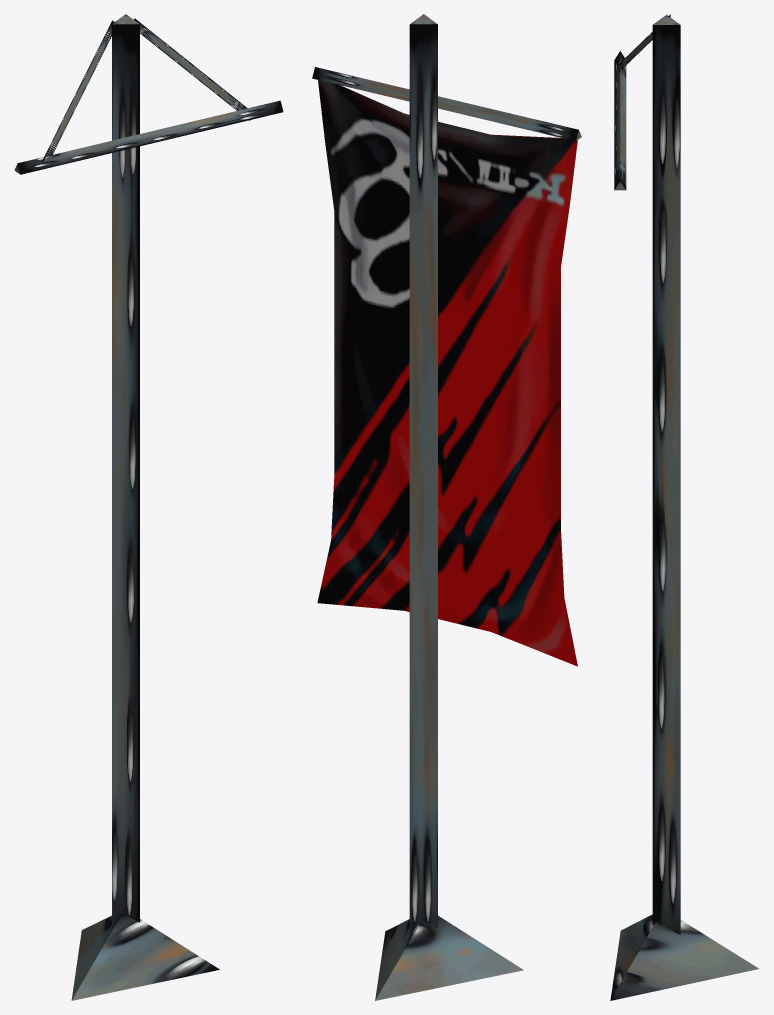
Rendered from Fahne1 [GewehreRot]_536.glb.
3 views of the same model, side by side, from view 1: azimuth 30°, elevation 25°; view 2: azimuth 150°, elevation 25°; view 3: azimuth 270°, elevation 25° (orthographic).
Parts seen in each view (by area): view 1: pCylinderShape20, pSphereShape36, pCylinderShape21, pPlaneShape15, pPlaneShape16; view 2: pPlaneShape17, pCylinderShape20, pSphereShape36, pCylinderShape21; view 3: pCylinderShape20, pSphereShape36, pCylinderShape21.
Boxes of the visible parts, x1=… form: pCylinderShape20: x1=112, y1=14, x2=139, y2=925; pSphereShape36: x1=71, y1=913, x2=219, y2=1000; pCylinderShape21: x1=14, y1=100, x2=283, y2=174; pPlaneShape15: x1=134, y1=18, x2=249, y2=120; pPlaneShape16: x1=41, y1=20, x2=114, y2=162; pPlaneShape17: x1=317, y1=80, x2=577, y2=666; pCylinderShape20: x1=409, y1=14, x2=437, y2=934; pSphereShape36: x1=375, y1=915, x2=523, y2=1000; pCylinderShape21: x1=312, y1=67, x2=581, y2=141; pCylinderShape20: x1=652, y1=14, x2=680, y2=934; pSphereShape36: x1=610, y1=914, x2=758, y2=1000; pCylinderShape21: x1=614, y1=51, x2=626, y2=190.
Bounding box in the file's own units: 0.5231 × 1.8 × 0.2562.
Materials: 6 (6 with a texture image).
